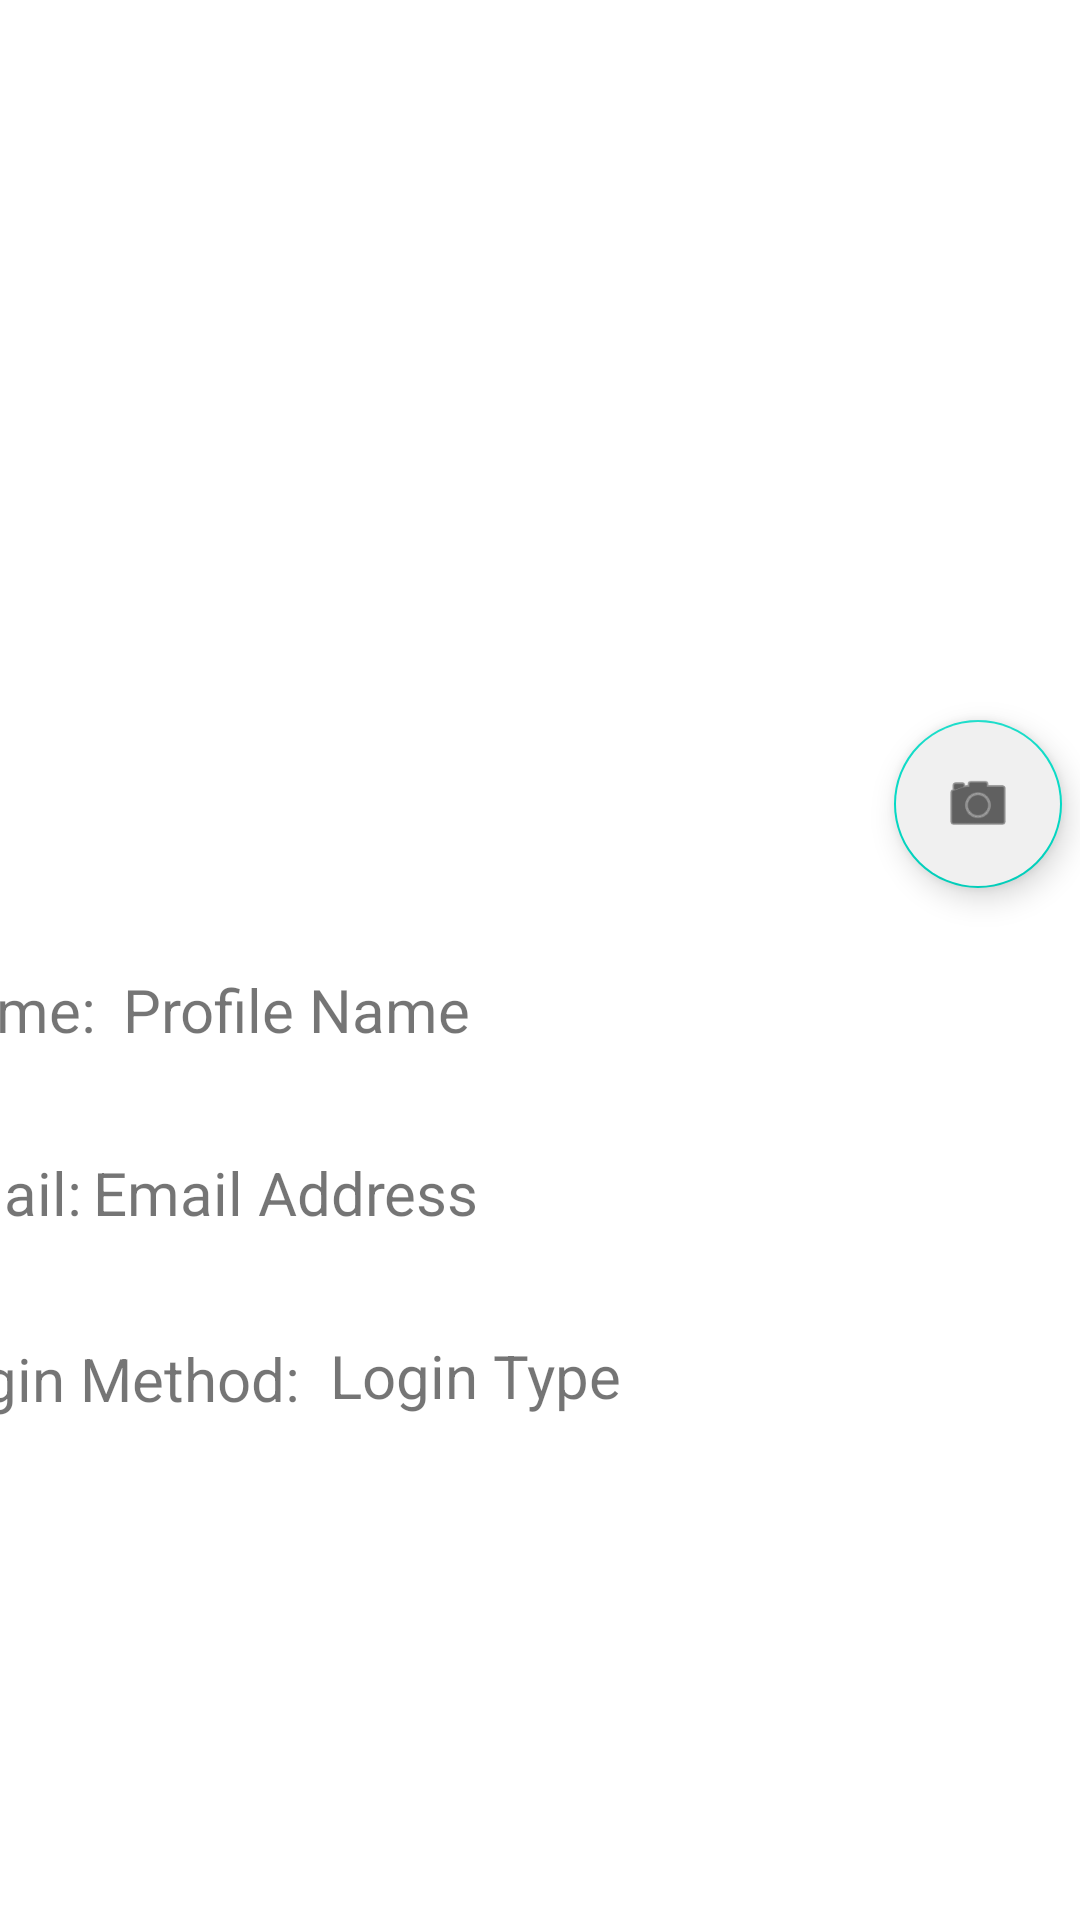

Screen size 1080*1920. Icon name, then its box in pixels as (x1, y1, x2, y2):
camera: (894, 720, 1062, 888)
